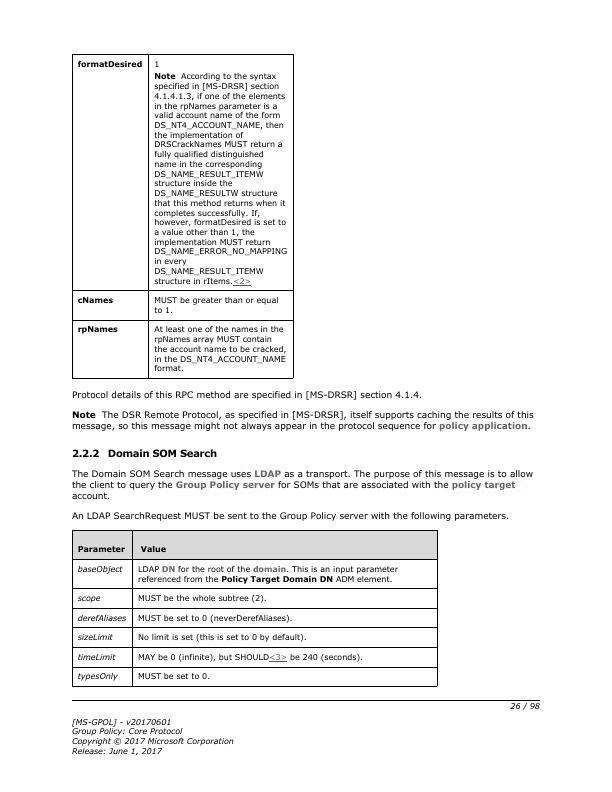table: (72, 53, 294, 379), (72, 530, 437, 688)
text: (69, 467, 535, 503), (69, 408, 539, 433), (68, 713, 235, 756), (69, 510, 511, 522), (68, 389, 423, 401), (68, 446, 222, 460)
